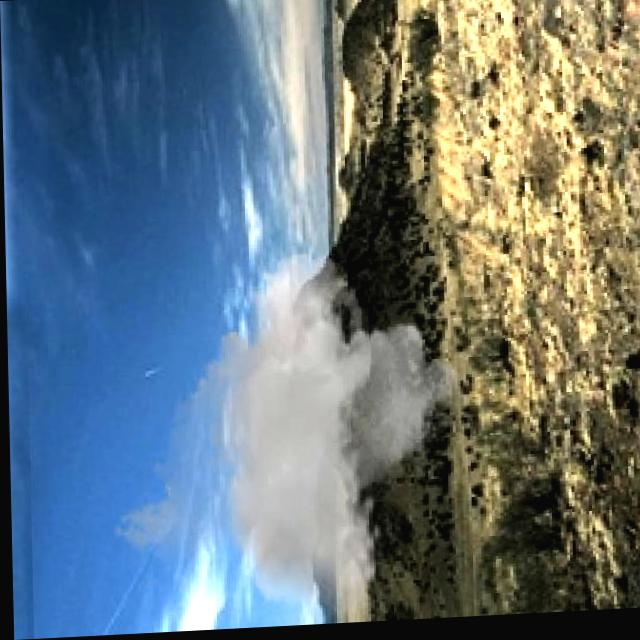no_helmet: (105, 247, 474, 630)
